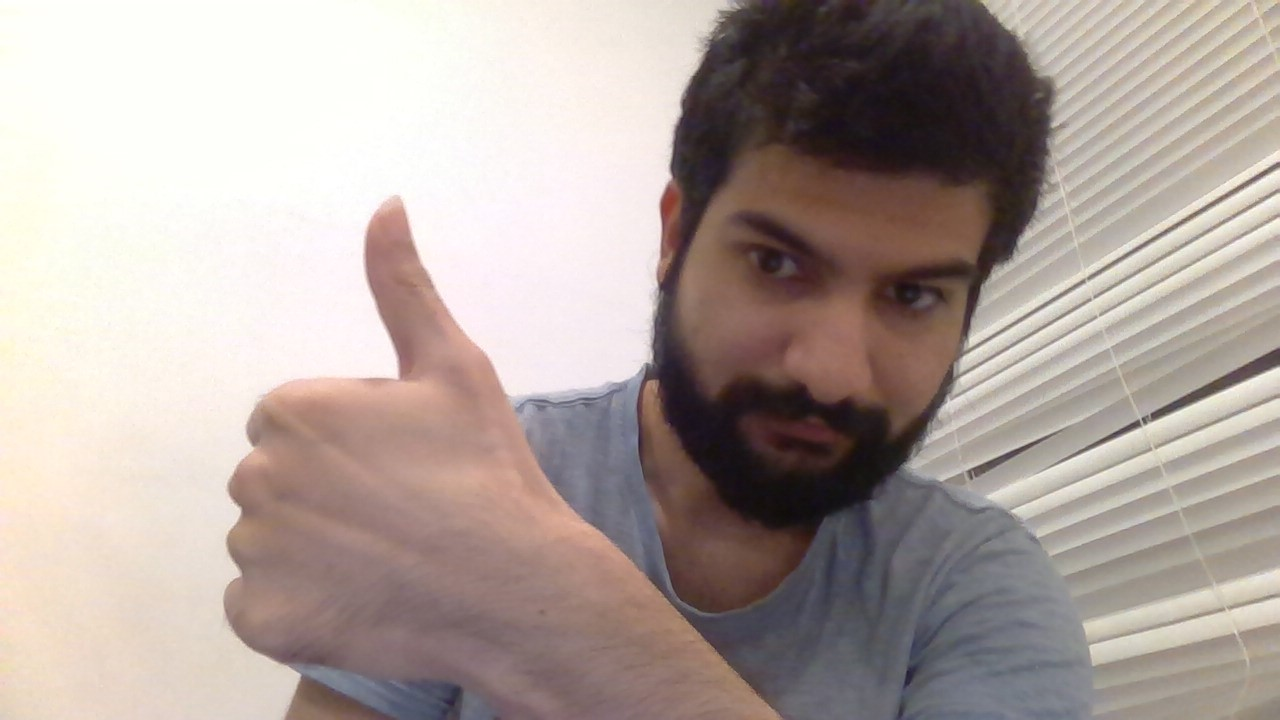up: (200, 185, 521, 689)
